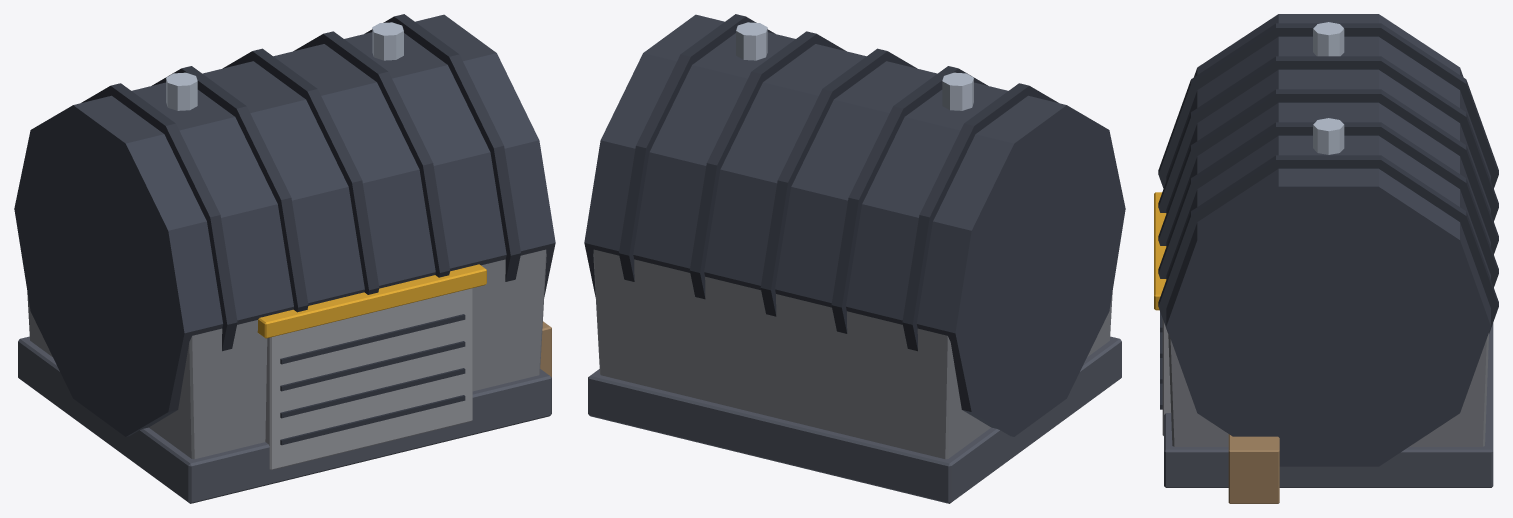
Rendered from Stylized_Landmark_WarehouseHangar.fbx.
3 renders of one model, left to right at view 1: azimuth 30°, elevation 25°; view 2: azimuth 150°, elevation 25°; view 3: azimuth 270°, elevation 25°, orthographic. The views are drawn at different scales.
Visible parts, largest first — view 1: Stylized_Landmark_WarehouseHangar; view 2: Stylized_Landmark_WarehouseHangar; view 3: Stylized_Landmark_WarehouseHangar.
Boxes of the visible parts, x1,y1,x2,y2 form: Stylized_Landmark_WarehouseHangar: (14,14,555,503); Stylized_Landmark_WarehouseHangar: (584,14,1125,503); Stylized_Landmark_WarehouseHangar: (1154,14,1498,503).
Bounding box in the file's own units: 6.22 × 5.1 × 4.86.
